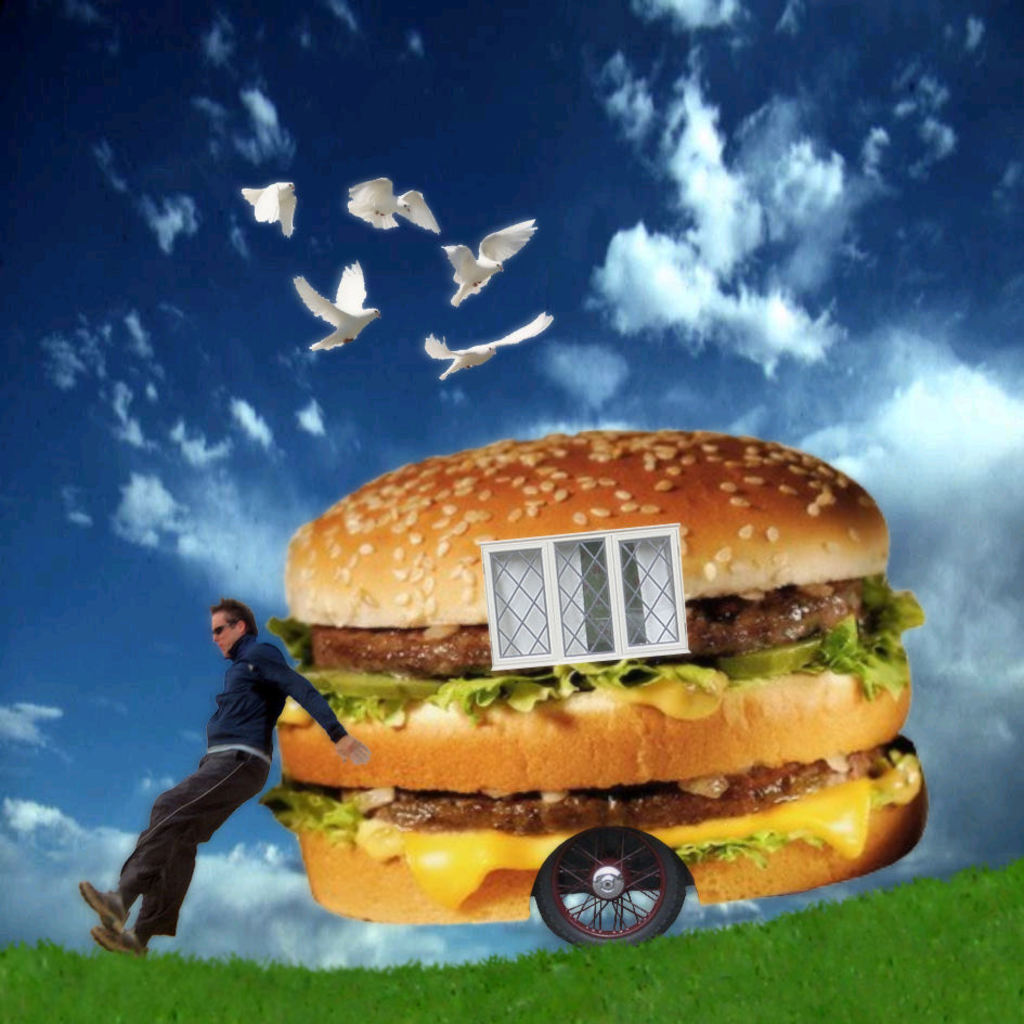Hamburger: (270, 429, 930, 926)
